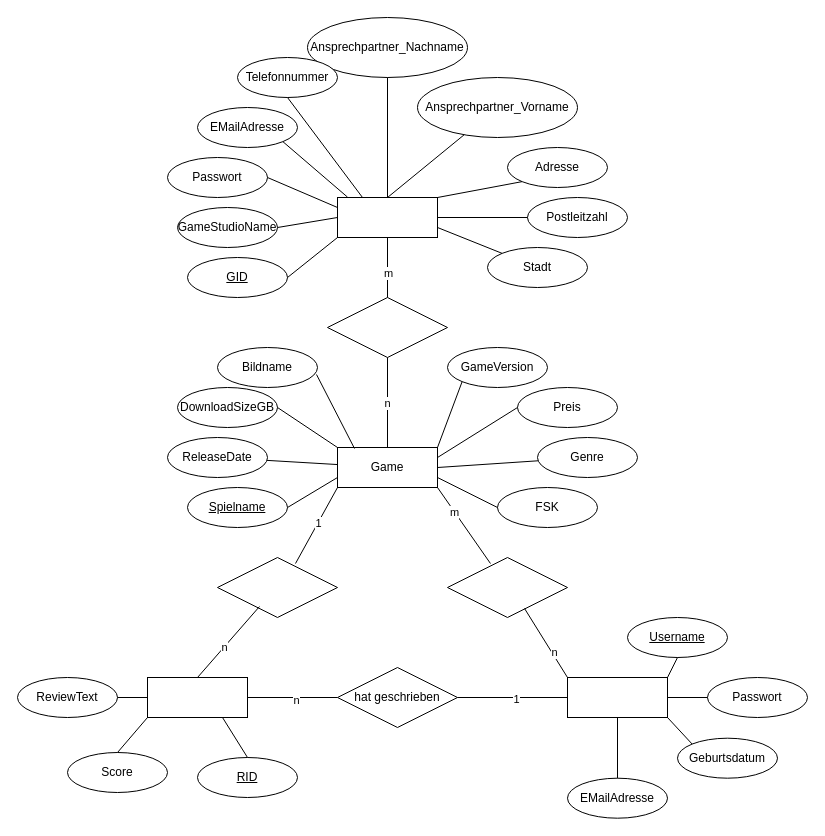
Image size: 825x836. Some labels were removed from this diagram. The centre of each missing label's shape, as x and y in pixels:
"besitzt" goes at point 507,587.
"entwickelt" goes at point 387,327.
"GameShopUser" goes at point 617,697.
"GameStudio" goes at point 387,217.
"gehört zu" goes at point 277,587.
"Review" goes at point 197,697.
